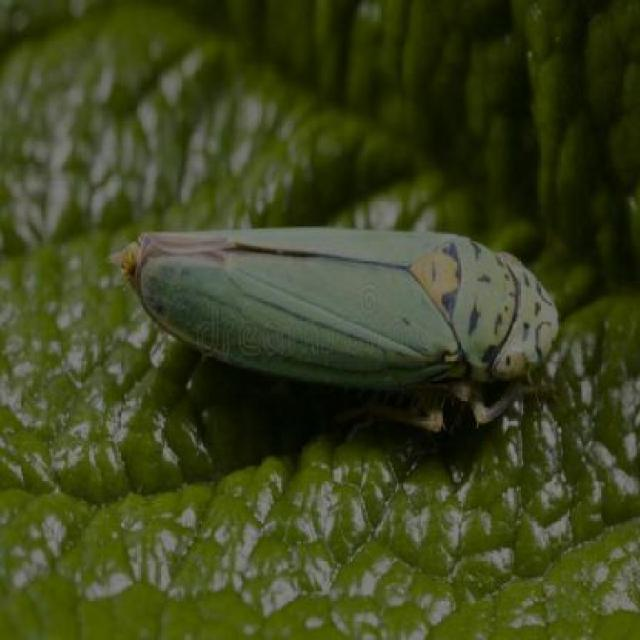green-leafhopper: (123, 212, 559, 425)
